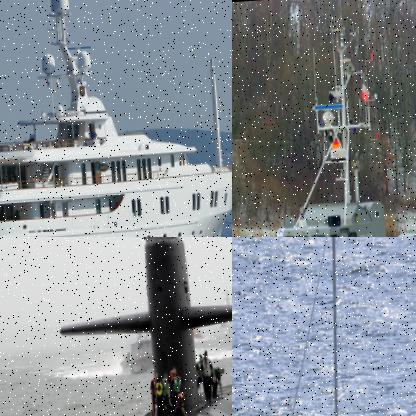Patrol Boat: (232, 0, 415, 236), (118, 332, 154, 374)
Sails Boat: (250, 237, 415, 415)
Submarine: (35, 237, 231, 415)
Yacht: (0, 0, 231, 236)
